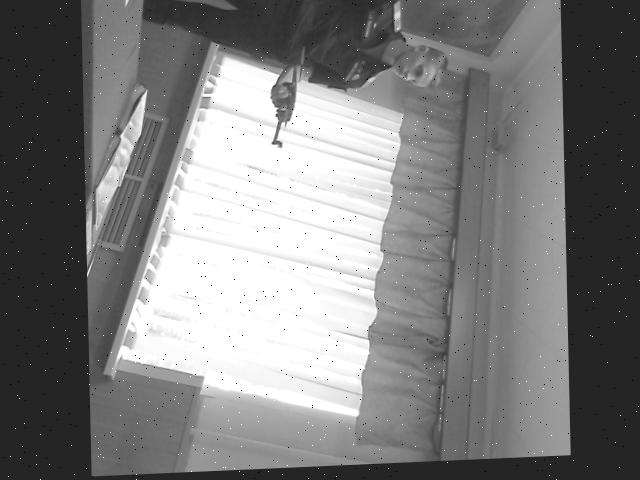drone: (265, 47, 315, 161)
